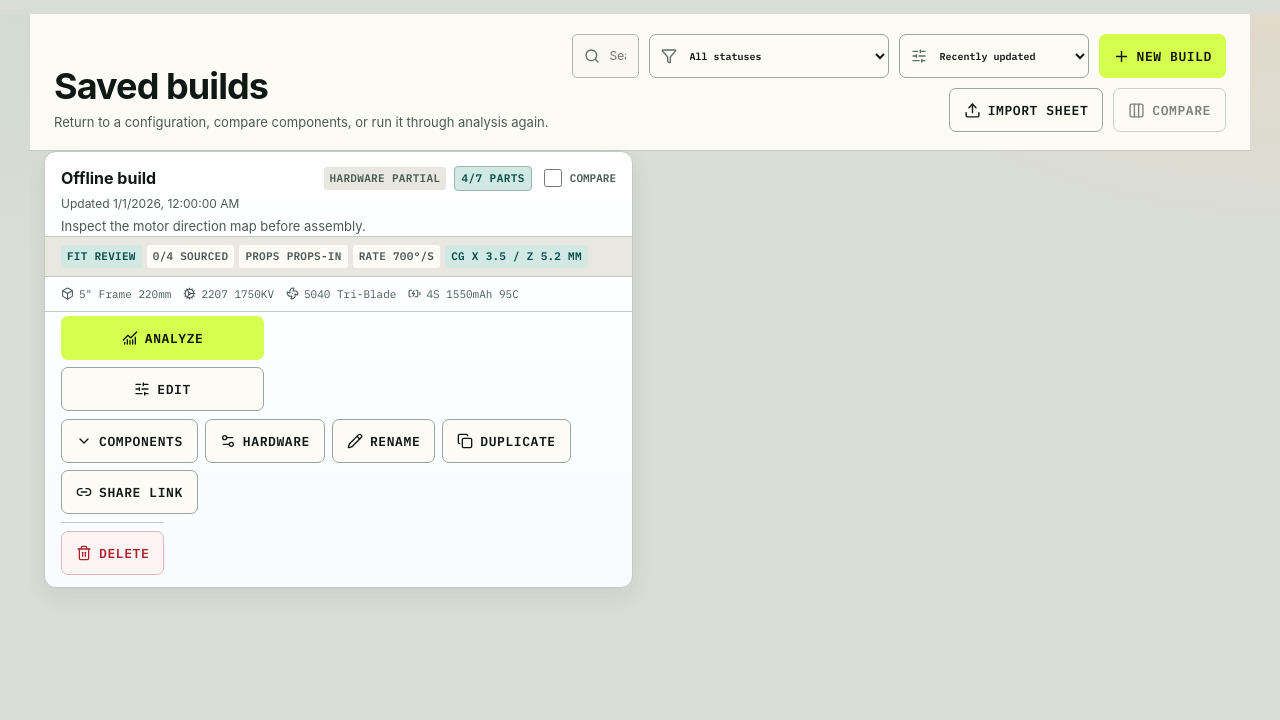
Test case: saved builds copy sanitized portable share links
The image size is (1280, 720).
Expected: the heading "Offline build" is shown, [61,168,156,188]
Click the button "Share link": coordinates (129, 492) [61,470,198,514]
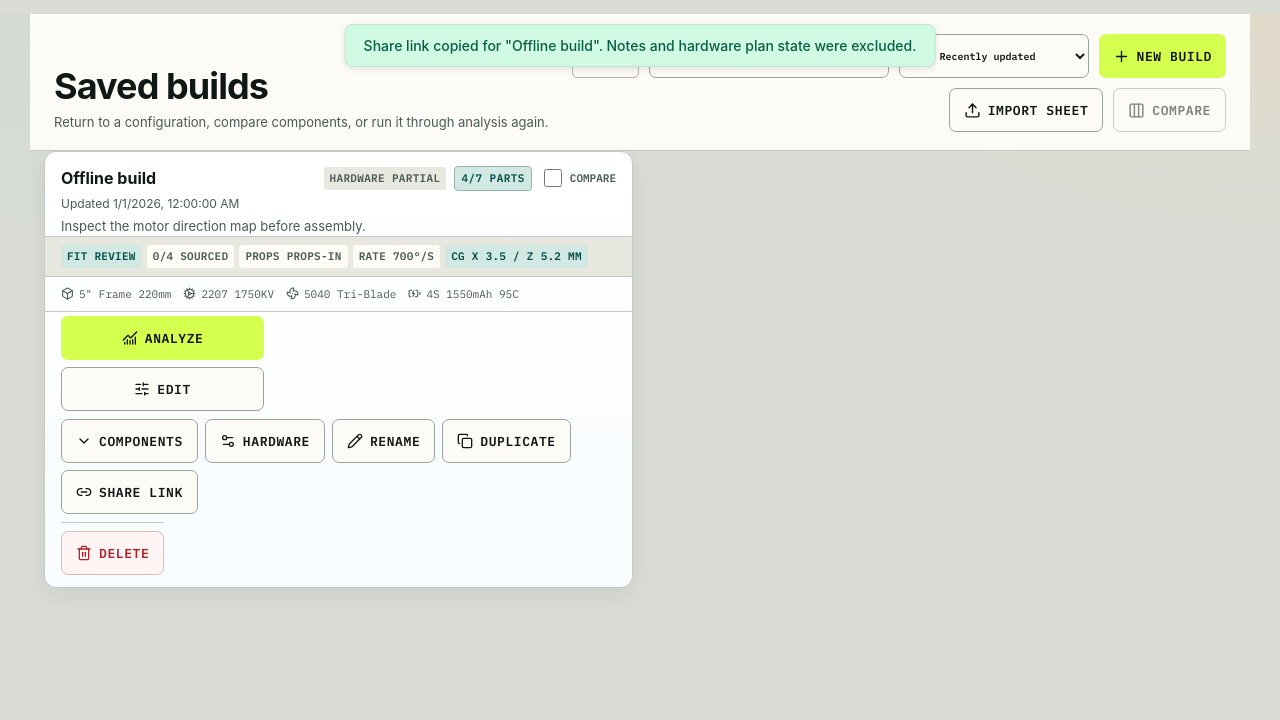
Expected: the text "Notes and hardware plan state were excluded" is shown, [364,37,916,54]
